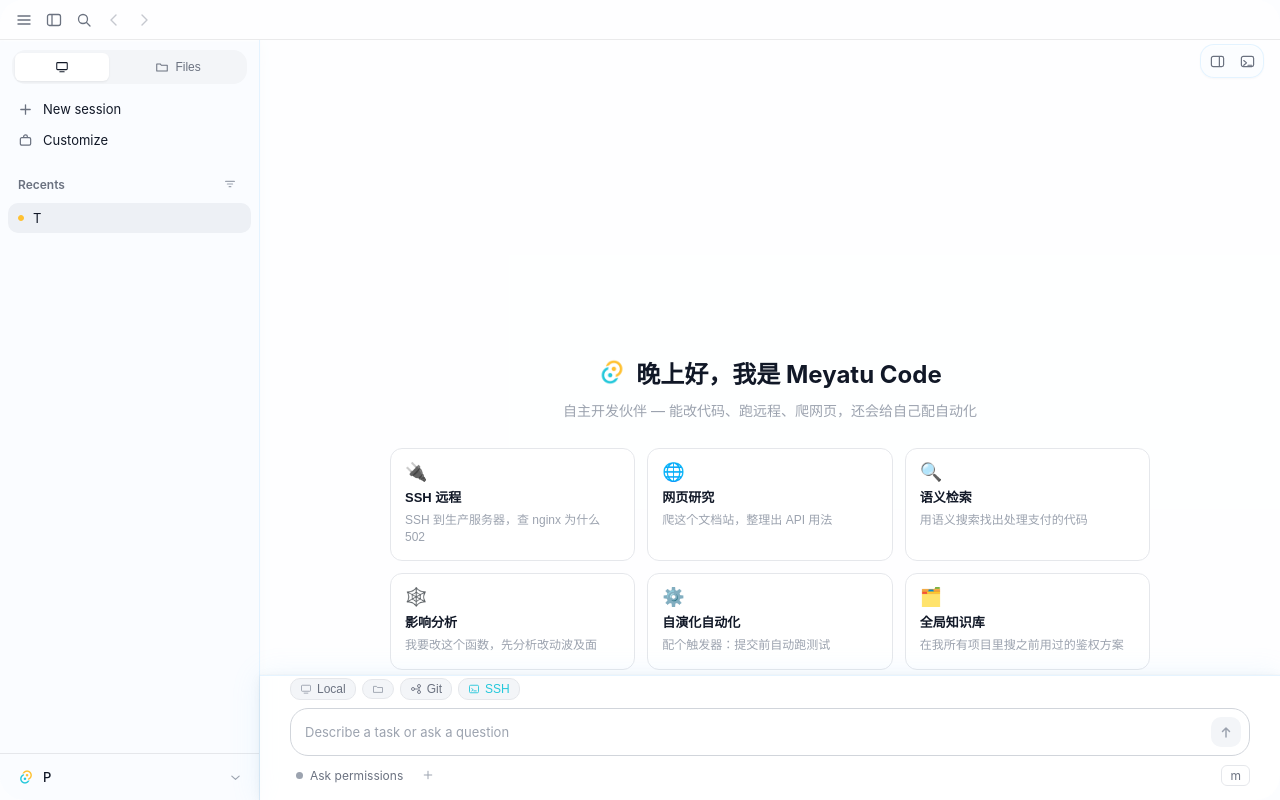
it: ChatWindow integration › surfaces a stream error in the error banner
The image size is (1280, 800).
Step 1. Type "hi" into the text box with placeholder "Describe a task or ask a question" → (754, 733), box [305,719,1203,747]
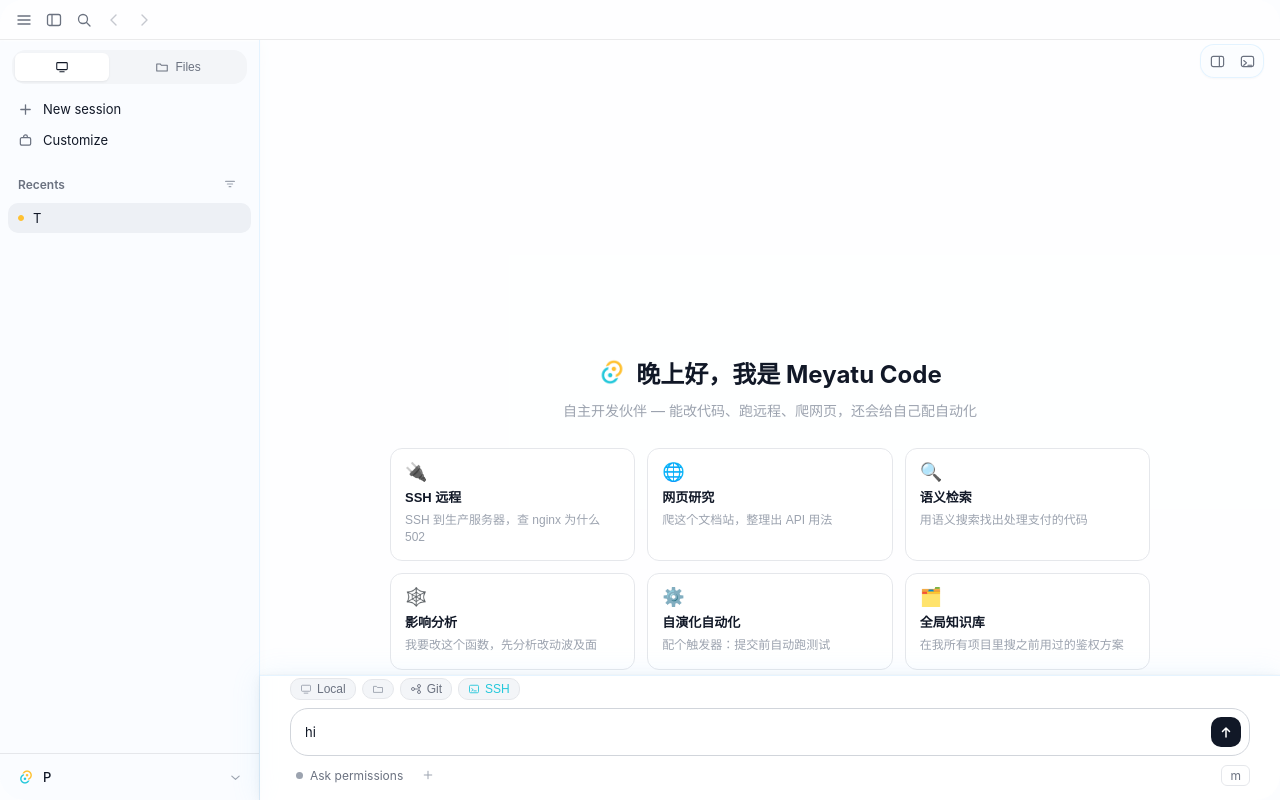
Step 2. Click the button named "Send message" → (1226, 732), box [1211,717,1241,747]
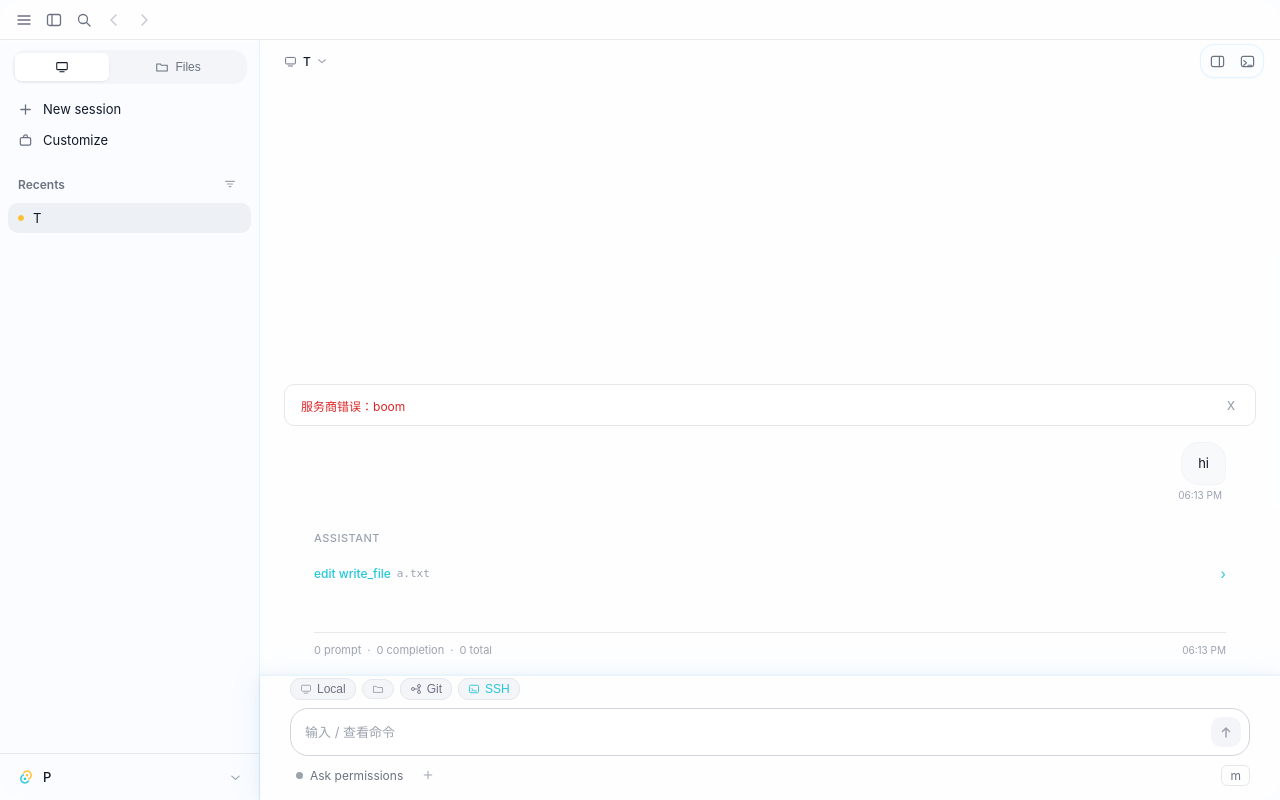
Result: the text "服务商错误：boom" is shown at [301,397,405,414]
